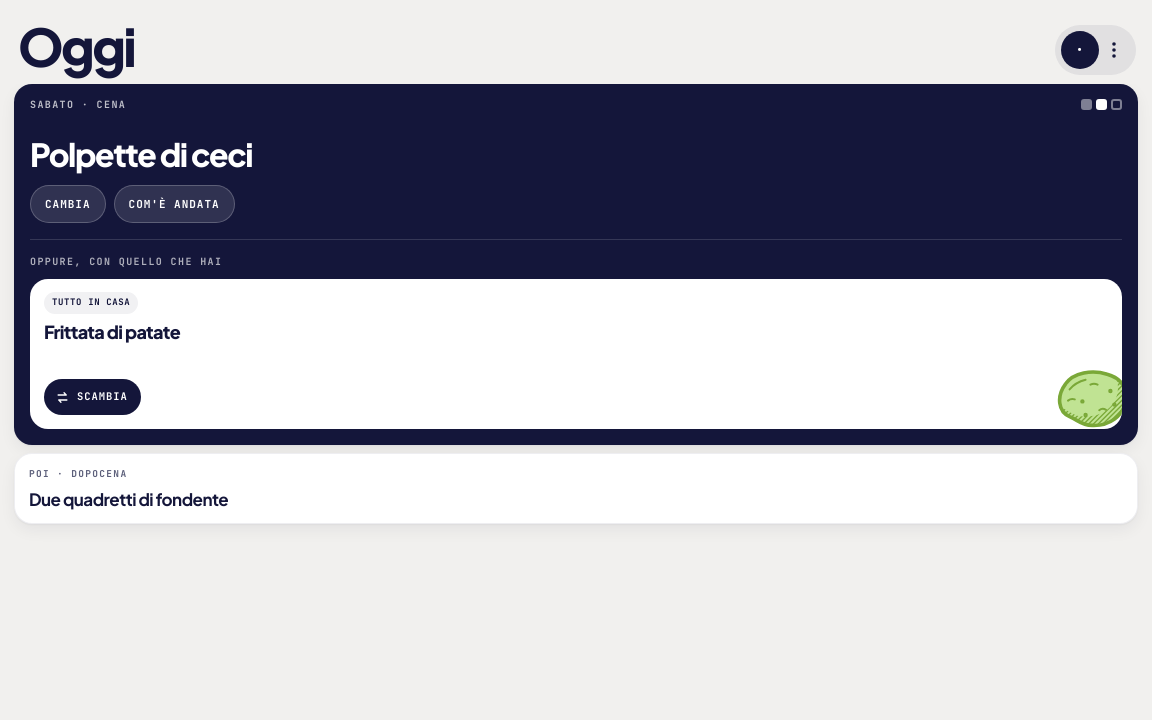
Test: Oggi (spec 2026-10-03) › dopo uno scambio, la rilettura è superata da un ritorno in primo piano che fallisce: l'errore, non il poster di prima
Click the button with aria-label "Scambia con Frittata di patate" at (92, 397), box [44,379,141,415]
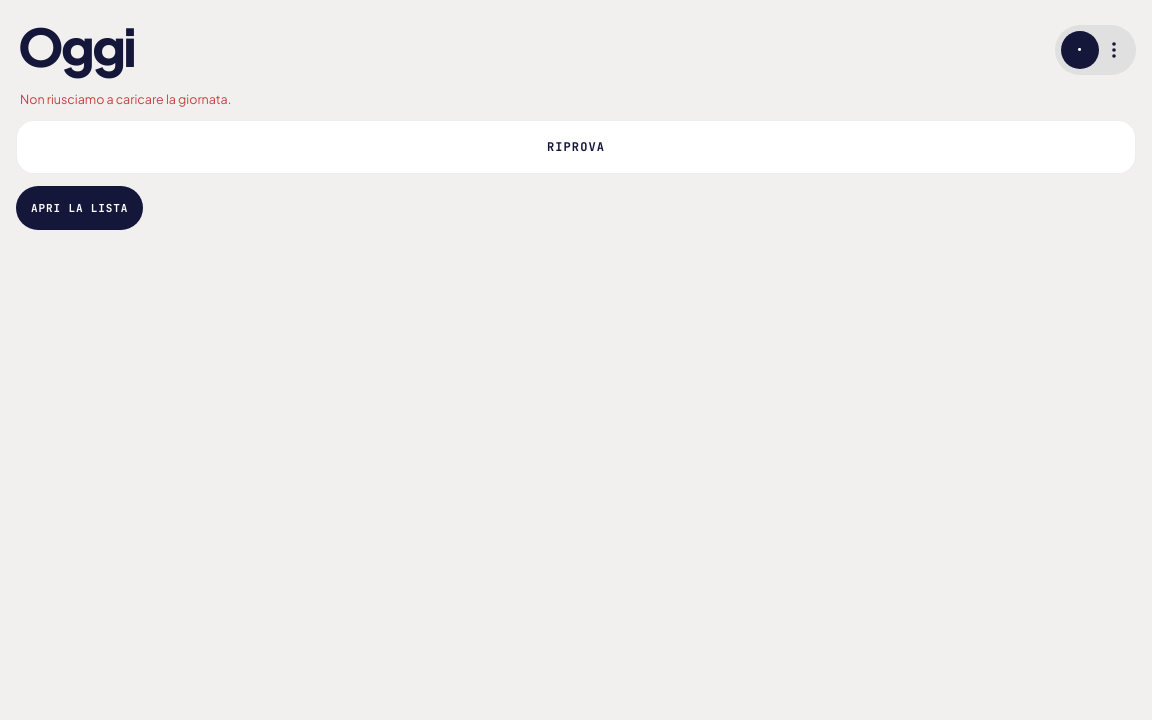
Now the text "Non riusciamo a caricare la giornata." is shown, box [20,91,231,107]
